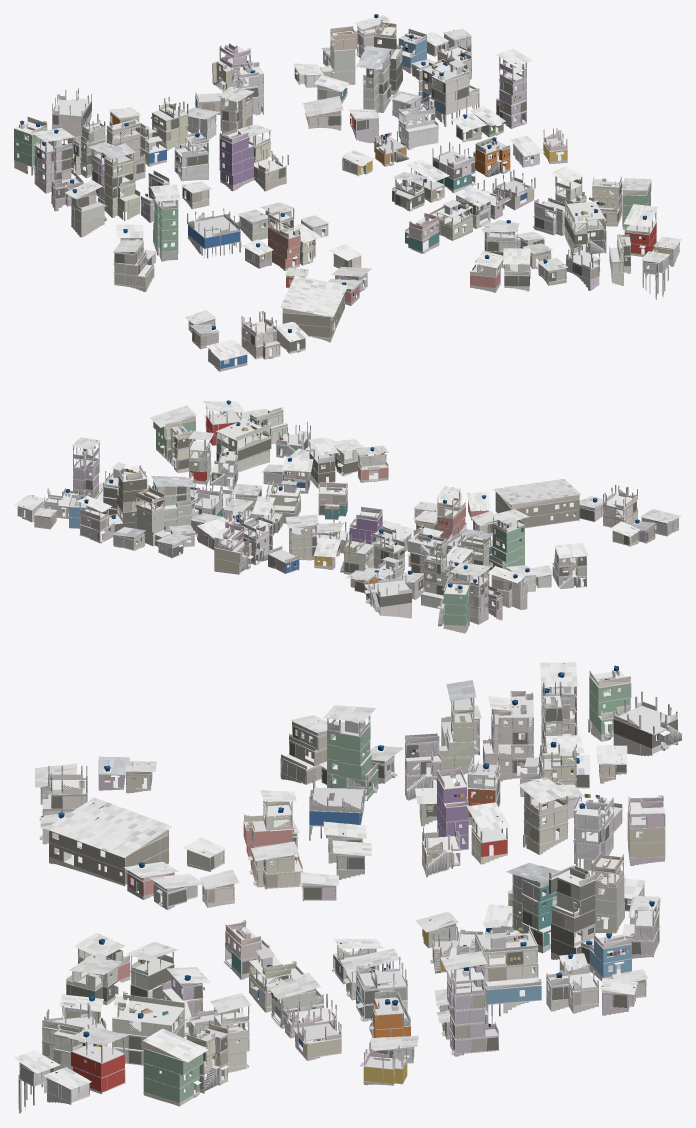
3 views of the same model, one above another, from view 1: azimuth 30°, elevation 25°; view 2: azimuth 150°, elevation 25°; view 3: azimuth 270°, elevation 25° (orthographic). The views are drawn at different scales.
Visible parts, largest first — view 1: T_26_24; view 2: T_26_24; view 3: T_26_24.
Part boxes in pixels (x1,y1,x2,y2): T_26_24: [14, 14, 681, 371]; T_26_24: [14, 400, 681, 633]; T_26_24: [14, 662, 681, 1113].
Size of the model in its own units: 139 by 38.43 by 119.
